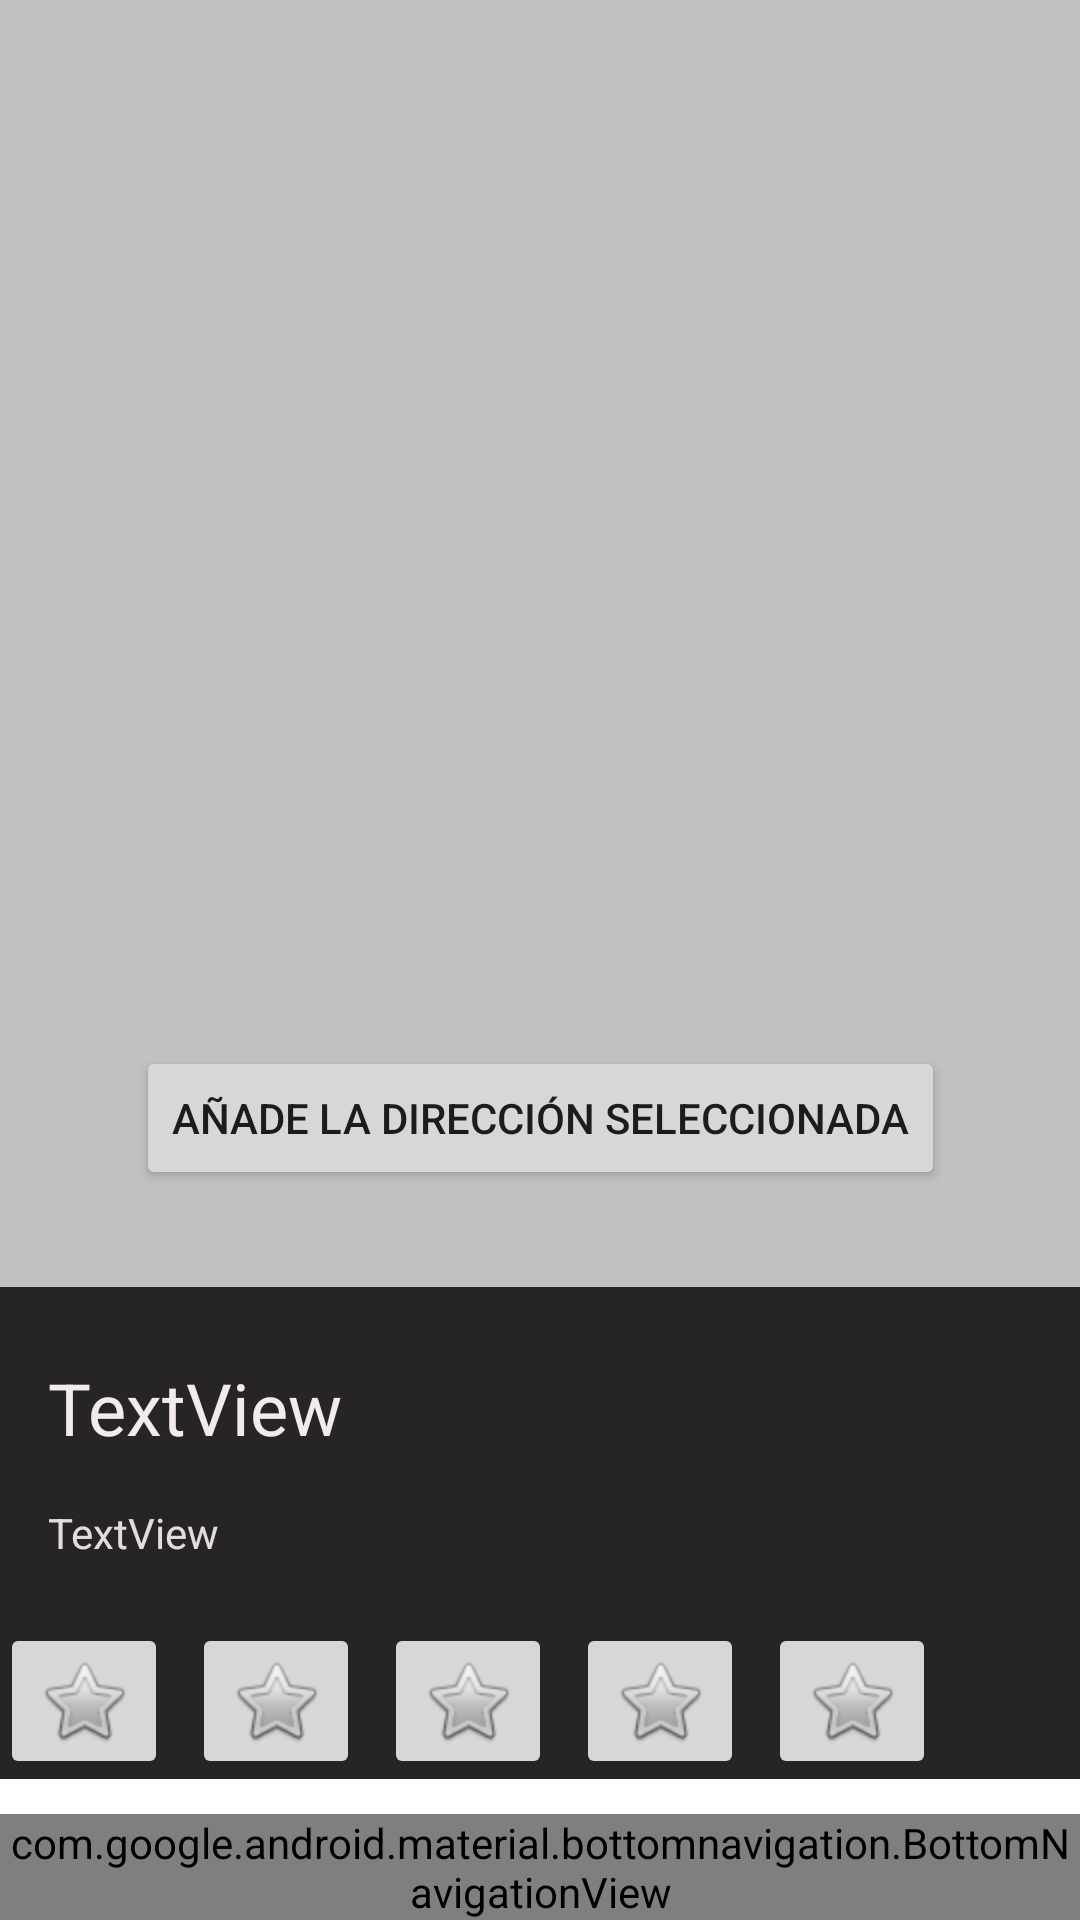

Named icons in this screenshot (1080w x 1920h) and their centers, point (x, y):
star off: point (84, 1701), point (276, 1701), point (468, 1701), point (660, 1701), point (852, 1701)
